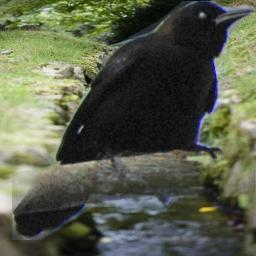Crow: (12, 1, 255, 240)
